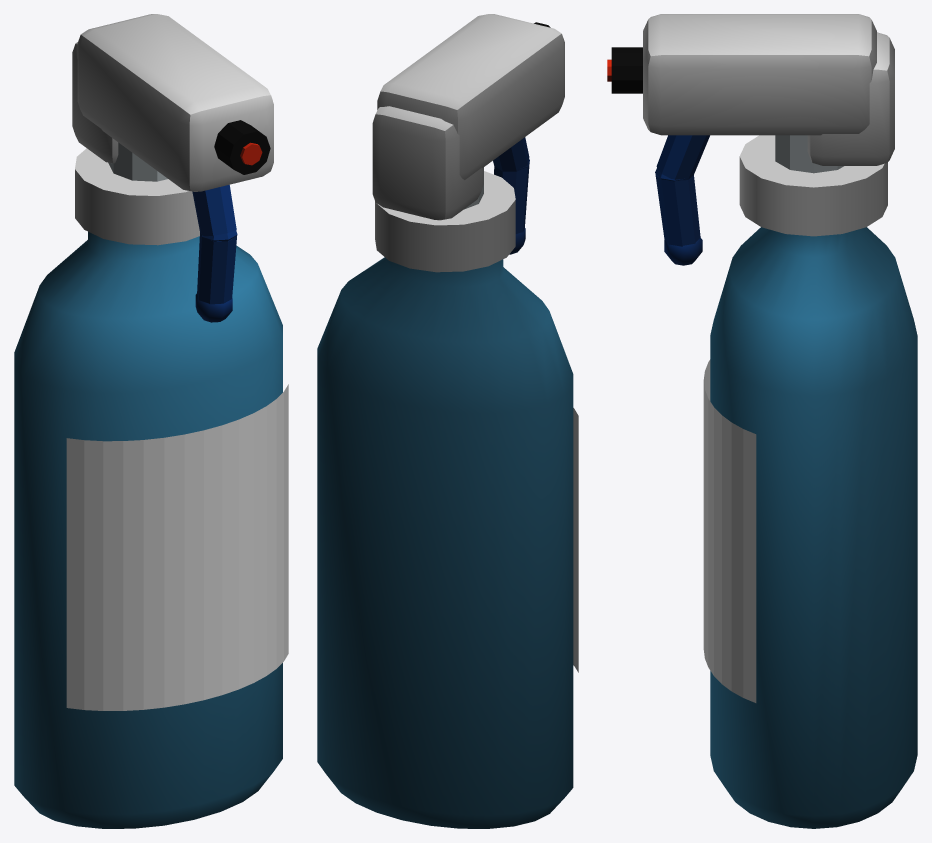
Rendered from spray_bottle.fbx.
The picture shows the model from 3 angles, left to right: view 1: azimuth 30°, elevation 25°; view 2: azimuth 150°, elevation 25°; view 3: azimuth 270°, elevation 25°; orthographic projection. The views are drawn at different scales.
Parts seen in each view (by area): view 1: Bottle, Label, Sprayer, Trigger; view 2: Bottle, Sprayer, Trigger, Label; view 3: Bottle, Sprayer, Label, Trigger.
Boxes of the visible parts, box(x1,y1,x2,y2) form: Bottle: box(14, 231, 282, 828); Label: box(66, 384, 288, 710); Sprayer: box(72, 14, 273, 245); Trigger: box(192, 184, 237, 322); Bottle: box(317, 257, 573, 828); Sprayer: box(372, 14, 564, 272); Trigger: box(493, 137, 529, 254); Label: box(573, 408, 578, 672); Bottle: box(710, 227, 917, 828); Sprayer: box(607, 14, 894, 236); Label: box(703, 359, 756, 702); Trigger: box(655, 135, 709, 265).
Size of the model in its own units: 0.064 by 0.183 by 0.0689.
